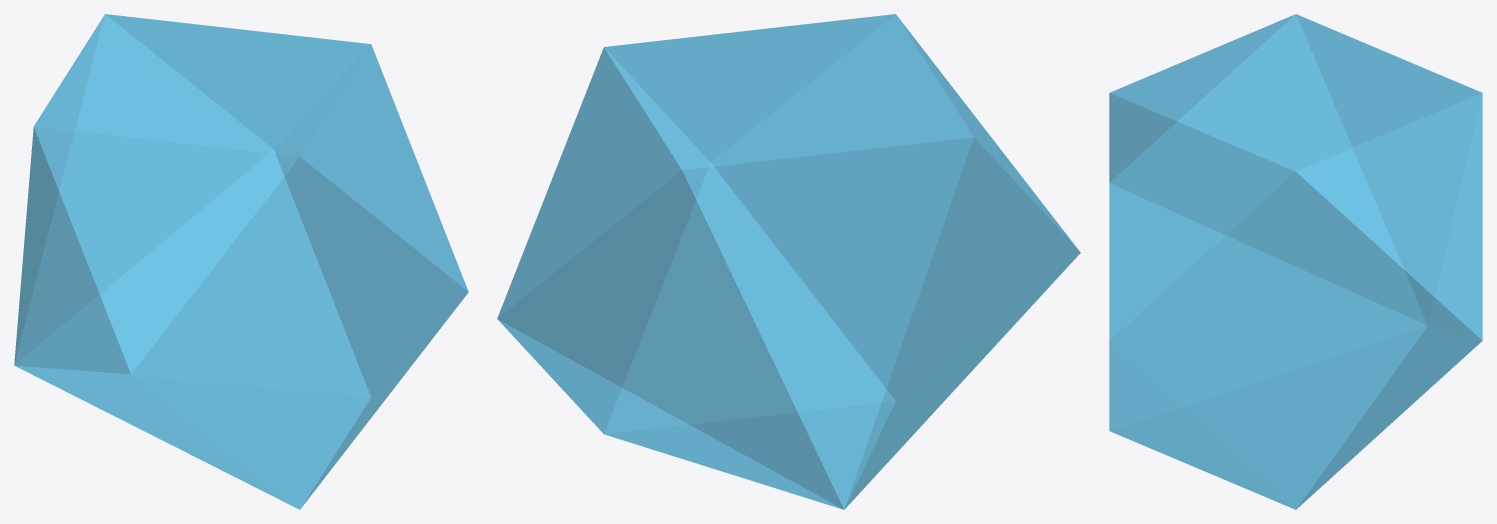
The model's file is TriangularCupola.obj.
3 views of the same model, side by side, from view 1: azimuth 30°, elevation 25°; view 2: azimuth 150°, elevation 25°; view 3: azimuth 270°, elevation 25° (orthographic). The views are drawn at different scales.
Size of the model in its own units: 1.41 by 1.41 by 1.41.
